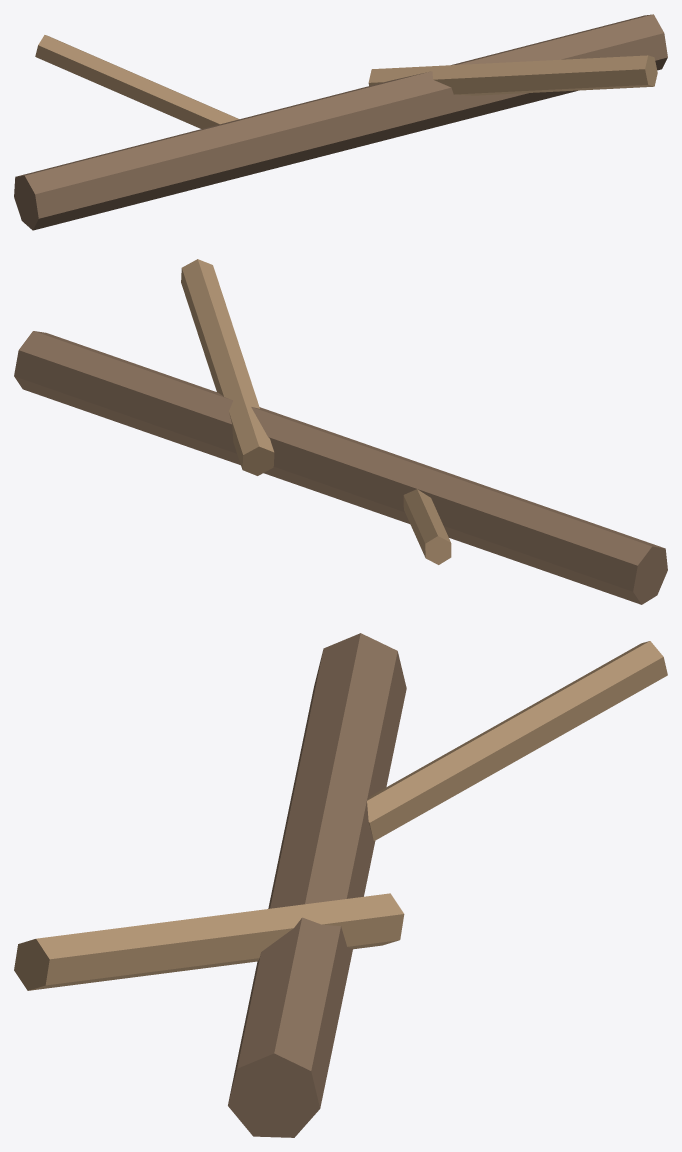
The model's file is myb_forest_dead_branch_b.fbx.
3 views of the same model, one above another, from view 1: azimuth 30°, elevation 25°; view 2: azimuth 150°, elevation 25°; view 3: azimuth 270°, elevation 25° (orthographic). The views are drawn at different scales.
Parts seen in each view (by area): view 1: myb_forest_dead_branch_b; view 2: myb_forest_dead_branch_b; view 3: myb_forest_dead_branch_b.
Boxes of the visible parts, bbox=[...] form: myb_forest_dead_branch_b: bbox=[14, 14, 667, 230]; myb_forest_dead_branch_b: bbox=[14, 259, 667, 604]; myb_forest_dead_branch_b: bbox=[14, 633, 667, 1137].
Size of the model in its own units: 1.31 by 0.2409 by 0.7561.
